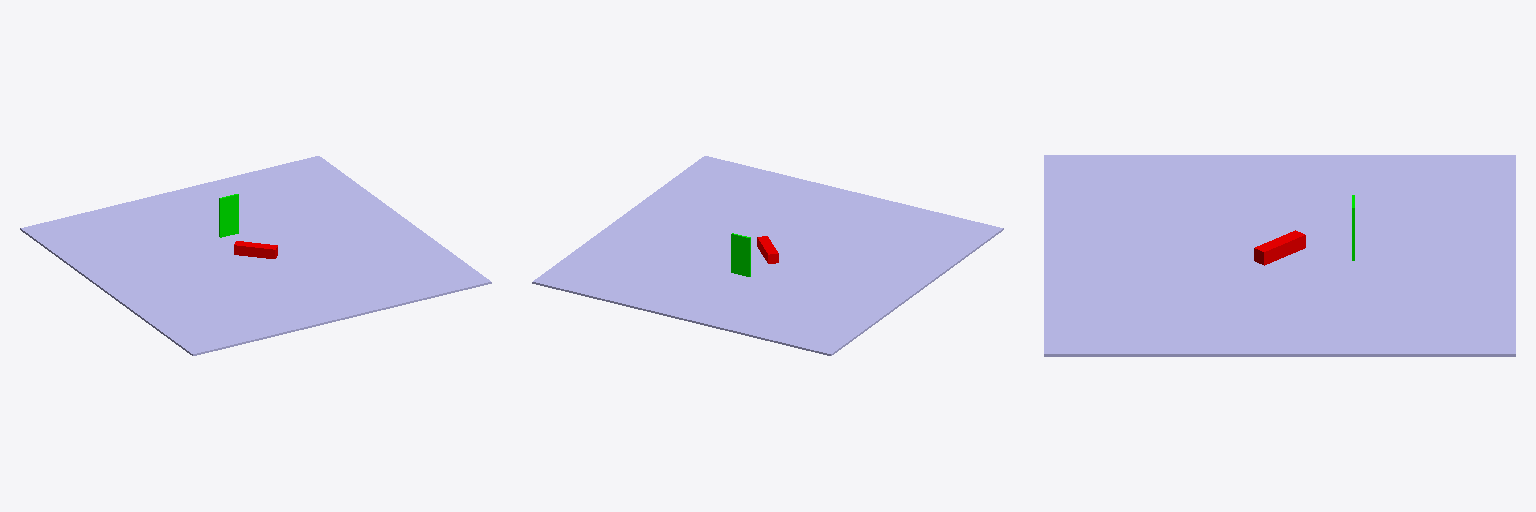
robot.urdf — my_custom:
<?xml version="1.0"?>
<!-- created with Phobos 1.0.1 "Capricious Choutengan" -->
  <robot name="my_custom">

    <link name="base_link">
      <inertial>
        <origin xyz="0 0 0" rpy="0 0 0"/>
        <mass value="0.001"/>
        <inertia ixx="0.001" ixy="0" ixz="0" iyy="0.001" iyz="0" izz="0.001"/>
      </inertial>
      <visual name="visual_cube_base">
        <origin xyz="0 0 0" rpy="0 0 0"/>
        <geometry>
          <box size="32.0 32.0 0.2"/>
        </geometry>
        <material name="lavender"/>
      </visual>
      <collision name="collision_cube_base">
        <origin xyz="0 0 0" rpy="0 0 0"/>
        <geometry>
          <box size="32.0 32.0 0.2"/>
        </geometry>
      </collision>
    </link>

    <link name="link0">
      <inertial>
        <origin xyz="0 0 0" rpy="0 0 0"/>
        <mass value="0.001"/>
        <inertia ixx="0.001" ixy="0" ixz="0" iyy="0.001" iyz="0" izz="0.001"/>
      </inertial>
      <visual name="visual_cube0">
        <origin xyz="0 0 0" rpy="0 0 0"/>
        <geometry>
          <box size="2.0 0.2 4.0"/>
        </geometry>
        <material name="green"/>
      </visual>
      <collision name="collision_cube0">
        <origin xyz="0 0 0" rpy="0 0 0"/>
        <geometry>
          <box size="2.0 0.2 4.0"/>
        </geometry>
      </collision>
    </link>

    <link name="link1">
      <inertial>
        <origin xyz="0 0 0" rpy="0 0 0"/>
        <mass value="0.001"/>
        <inertia ixx="0.001" ixy="0" ixz="0" iyy="0.001" iyz="0" izz="0.001"/>
      </inertial>
      <visual name="visual_cube1">
        <origin xyz="0 0 0" rpy="0 0 0"/>
        <geometry>
          <box size="1.0 1.0 4.0"/>
        </geometry>
        <material name="red"/>
      </visual>
      <collision name="collision_cube1">
        <origin xyz="0 0 0" rpy="0 0 0"/>
        <geometry>
          <box size="1.0 1.0 4.0"/>
        </geometry>
      </collision>
    </link>

    <link name="link2">
      <inertial>
        <origin xyz="0 0 0" rpy="0 0 0"/>
        <mass value="0.001"/>
        <inertia ixx="0.001" ixy="0" ixz="0" iyy="0.001" iyz="0" izz="0.001"/>
      </inertial>
      <visual name="visual_mesh2">
        <origin xyz="0 0 0" rpy="0 0 0"/>
        <geometry>
          <mesh filename="file://[local-path]/ba/puzzle-generator/puzzles/my_custom/meshes/stl/slot_disc.stl" scale="2.0 2.0 0.5"/>
        </geometry>
        <material name="green"/>
      </visual>
      <collision concave="yes" name="collision_mesh2">
        <origin xyz="-0.03587 0 0" rpy="0 0 0"/>
        <geometry>
          <mesh filename="file://[local-path]/ba/puzzle-generator/puzzles/my_custom/meshes/stl/slot_disc.001.stl" scale="1.0 1.0 1.0"/>
        </geometry>
      </collision>
    </link>

    <joint name="link0" type="revolute">
      <origin xyz="0 5.0 2.1" rpy="0 0 0"/>
      <parent link="base_link"/>
      <child link="link0"/>
      <axis xyz="0 0 1.0"/>
      <limit lower="-0.7854" upper="0.7854" effort="0" velocity="0"/>
    </joint>

    <joint name="link1" type="prismatic">
      <origin xyz="0 0 0.6" rpy="-1.5708 0 0.7854"/>
      <parent link="base_link"/>
      <child link="link1"/>
      <axis xyz="0 0 1.0"/>
      <limit lower="0" upper="2.0" effort="0" velocity="0"/>
    </joint>

    <joint name="link2" type="revolute">
      <origin xyz="0 -5.0 0.6" rpy="0 0 0"/>
      <parent link="base_link"/>
      <child link="link2"/>
      <axis xyz="0 0 1.0"/>
      <limit lower="-0.7854" upper="0.7854" effort="0" velocity="0"/>
    </joint>

    <material name="green">
      <color rgba="0 1.0 0 1.0"/>
    </material>

    <material name="lavender">
      <color rgba="0.8 0.8 1.0 1.0"/>
    </material>

    <material name="red">
      <color rgba="1.0 0 0 1.0"/>
    </material>

  </robot>

--- Facts derived from the render (not from the file) ---
The picture shows the robot from 3 angles, left to right: view 1: azimuth 30°, elevation 25°; view 2: azimuth 150°, elevation 25°; view 3: azimuth 270°, elevation 25°; orthographic projection.
Model my_custom with 4 links and 3 joints (2 revolute, 1 prismatic), rooted at base_link, posed every joint at zero.
Links seen in each view (by area): view 1: base_link, link0, link1; view 2: base_link, link0; view 3: base_link, link1.
Boxes of the visible links, x1=… form: base_link: x1=20, y1=156, x2=491, y2=355; link0: x1=219, y1=194, x2=238, y2=237; link1: x1=234, y1=241, x2=277, y2=258; base_link: x1=532, y1=156, x2=1003, y2=355; link0: x1=731, y1=233, x2=750, y2=276; base_link: x1=1044, y1=155, x2=1515, y2=356; link1: x1=1254, y1=230, x2=1305, y2=265.
Size in the robot's own frame: 32 by 32 by 4.2 metres.
Geometry: only primitive shapes (box / cylinder / sphere) drawn; not drawn: 1 mesh visual (reference in a form the renderer does not follow).
